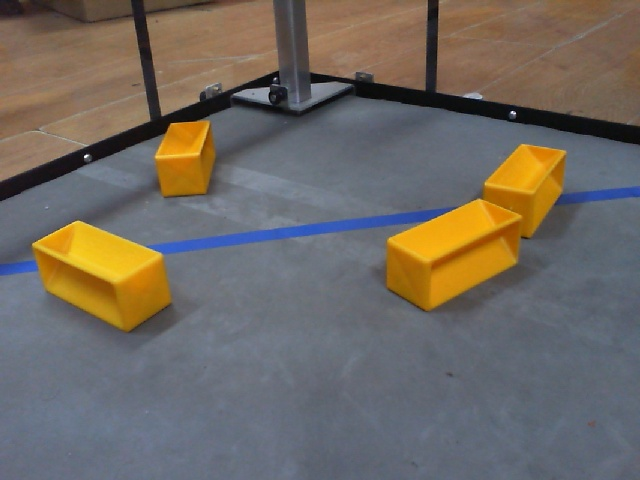YellowSample: (30, 214, 178, 331), (383, 195, 526, 309), (480, 142, 572, 242), (153, 117, 219, 198)
